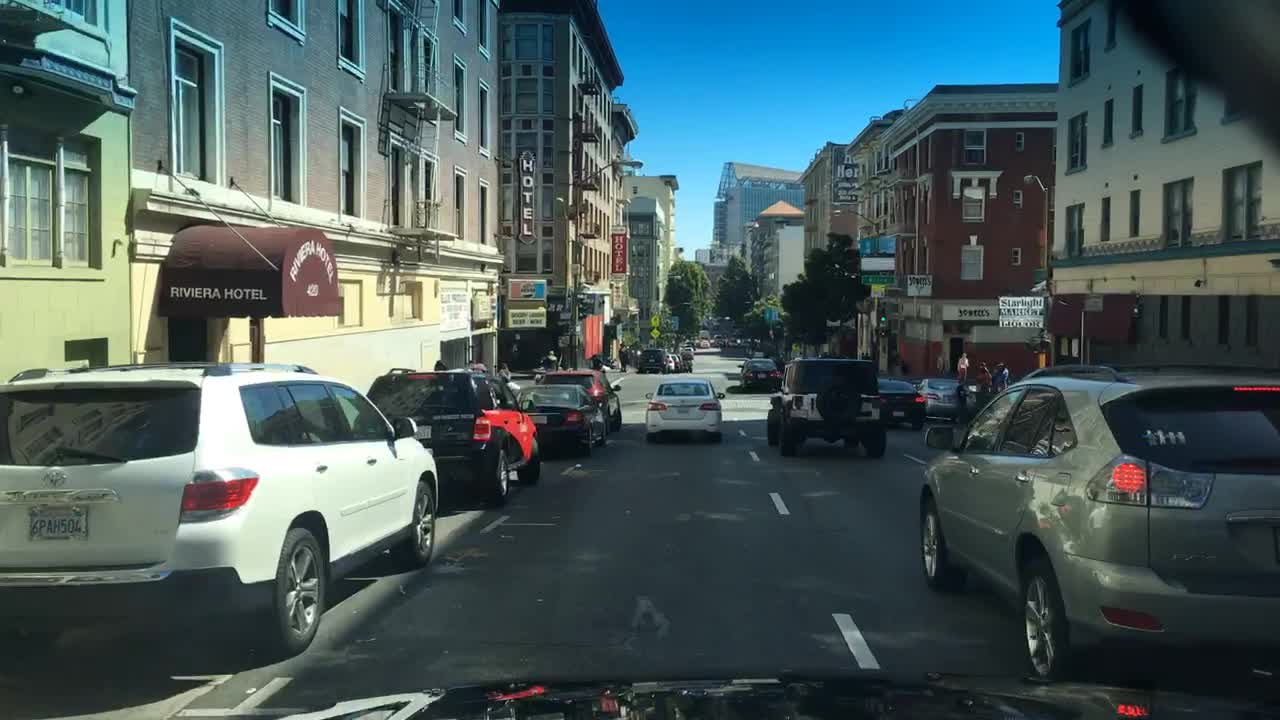car: (0, 363, 440, 661), (912, 363, 1276, 683), (351, 365, 541, 501), (763, 351, 888, 457), (512, 385, 606, 456), (535, 366, 622, 436), (643, 381, 724, 444), (913, 370, 976, 421), (877, 376, 925, 432), (736, 355, 781, 391), (635, 346, 671, 375), (764, 351, 786, 374), (673, 351, 685, 371), (667, 353, 678, 370), (698, 336, 712, 349), (685, 353, 692, 373), (751, 348, 764, 358), (681, 346, 694, 356)
person: (947, 376, 975, 425), (995, 361, 1010, 394), (954, 350, 967, 388), (975, 363, 991, 393), (540, 349, 558, 375), (496, 361, 511, 386), (471, 356, 487, 378), (618, 343, 628, 373), (430, 356, 446, 374), (591, 353, 602, 373)
traffic sign: (995, 294, 1040, 331), (859, 254, 895, 272), (857, 273, 898, 286), (878, 233, 894, 257), (869, 285, 885, 299), (862, 237, 875, 254), (648, 315, 661, 326), (651, 328, 661, 341)
